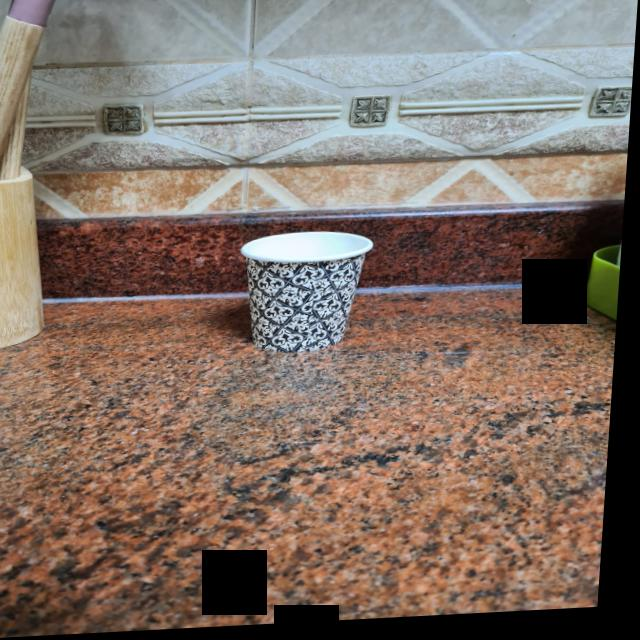cups: (231, 229, 383, 366)
